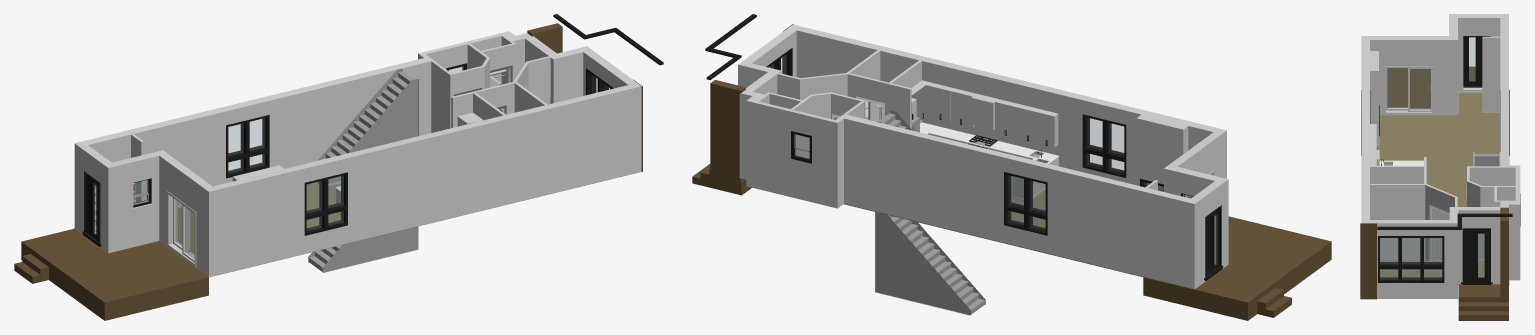
File: eastridge-5b-main.gltf
The picture shows the model from 3 angles, left to right: view 1: azimuth 30°, elevation 25°; view 2: azimuth 150°, elevation 25°; view 3: azimuth 270°, elevation 25°; orthographic projection. The views are drawn at different scales.
Parts seen in each view (by area): view 1: pCube250:PIV, back_deck:PIV, pCube130:PIV, pCube535:PIV, main_floor|floor_main:PIV, pCube221:PIV, pCube219:PIV, pCube222:PIV, pCube223:PIV, pCube464:PIV, pCube60:PIV, pCube227:PIV (+11 smaller); view 2: pCube250:PIV, back_deck:PIV, pCube534:PIV, pCube107:PIV, pCube256:PIV, pCube219:PIV, pCube221:PIV, pCube223:PIV, pCube222:PIV, counter_top_kitchen:PIV, pCube64:PIV, main_floor|floor_main:PIV (+10 smaller); view 3: pCube250:PIV, main_floor|floor_main:PIV, pCube53:PIV, back_deck:PIV, main_window:PIV, pCube45:PIV, pCube487:PIV, pCube106:PIV, pCube54:PIV, pCube64:PIV, pCube242:PIV, pCube243:PIV (+24 smaller).
Part boxes in pixels (bbox=[...]): pCube250:PIV: bbox=[74, 31, 641, 276]; back_deck:PIV: bbox=[21, 229, 208, 320]; pCube130:PIV: bbox=[328, 79, 418, 183]; pCube535:PIV: bbox=[322, 226, 418, 272]; main_floor|floor_main:PIV: bbox=[74, 172, 640, 277]; pCube221:PIV: bbox=[226, 115, 269, 178]; pCube219:PIV: bbox=[304, 172, 347, 235]; pCube222:PIV: bbox=[307, 176, 343, 230]; pCube223:PIV: bbox=[228, 118, 264, 173]; pCube464:PIV: bbox=[431, 60, 451, 132]; pCube60:PIV: bbox=[526, 56, 550, 104]; pCube227:PIV: bbox=[84, 172, 99, 242]; pCube250:PIV: bbox=[738, 24, 1228, 289]; back_deck:PIV: bbox=[1143, 216, 1331, 320]; pCube534:PIV: bbox=[875, 212, 970, 315]; pCube107:PIV: bbox=[710, 80, 745, 179]; pCube256:PIV: bbox=[1136, 114, 1188, 197]; pCube219:PIV: bbox=[1082, 114, 1126, 177]; pCube221:PIV: bbox=[1004, 172, 1047, 235]; pCube223:PIV: bbox=[1009, 175, 1045, 229]; pCube222:PIV: bbox=[1087, 118, 1123, 172]; counter_top_kitchen:PIV: bbox=[928, 126, 1059, 163]; pCube64:PIV: bbox=[791, 92, 835, 157]; main_floor|floor_main:PIV: bbox=[740, 176, 1228, 289]; pCube250:PIV: bbox=[1361, 14, 1520, 298]; main_floor|floor_main:PIV: bbox=[1376, 89, 1509, 285]; pCube53:PIV: bbox=[1370, 184, 1426, 258]; back_deck:PIV: bbox=[1387, 66, 1475, 108]; main_window:PIV: bbox=[1378, 236, 1444, 282]; pCube45:PIV: bbox=[1482, 36, 1500, 111]; pCube487:PIV: bbox=[1360, 223, 1376, 299]; pCube106:PIV: bbox=[1463, 229, 1490, 282]; pCube54:PIV: bbox=[1370, 166, 1426, 183]; pCube64:PIV: bbox=[1467, 179, 1515, 206]; pCube242:PIV: bbox=[1410, 69, 1430, 109]; pCube243:PIV: bbox=[1387, 68, 1407, 107].
Bounding box in the file's own units: 15.73 × 4.64 × 4.21.
